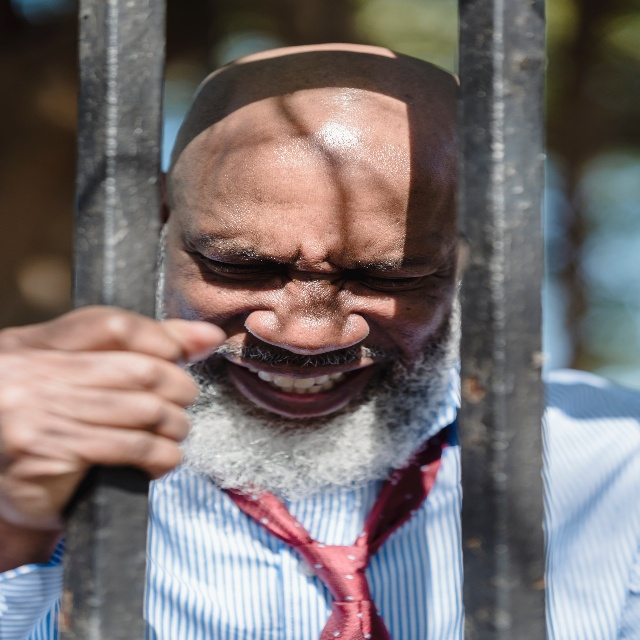Sin_guantes: (0, 302, 226, 531)
